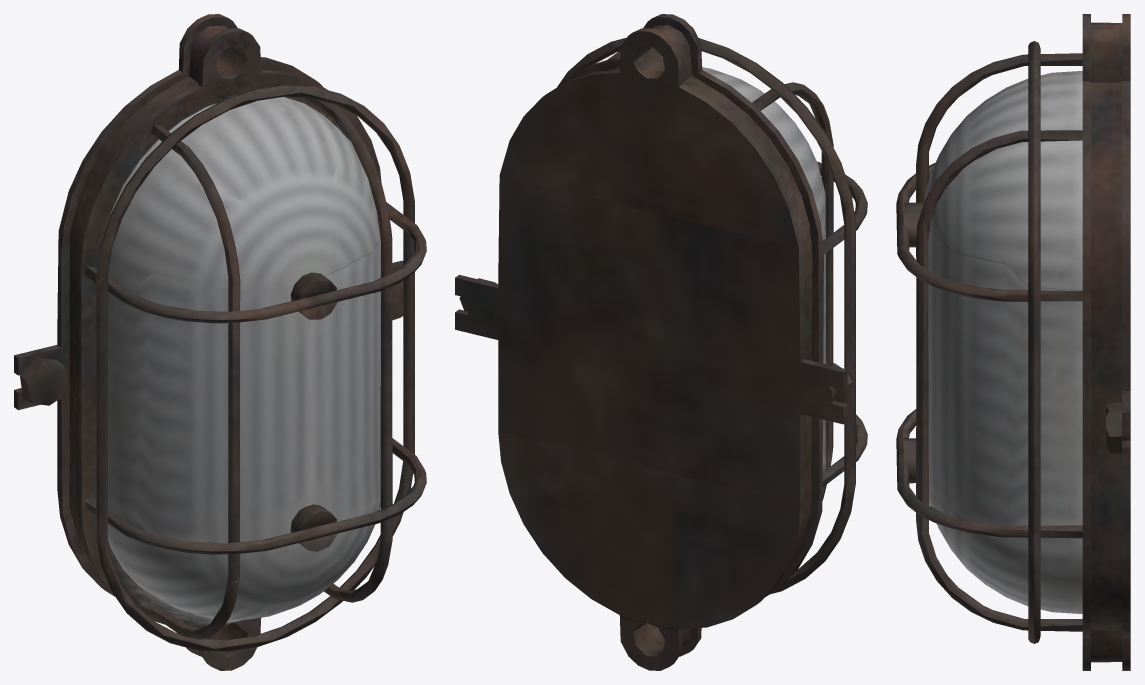
File: industrial_wall_lamp.glb
3 renders of one model, left to right at view 1: azimuth 30°, elevation 25°; view 2: azimuth 150°, elevation 25°; view 3: azimuth 270°, elevation 25°, orthographic.
Parts seen in each view (by area): view 1: industrial_wall_lamp; view 2: industrial_wall_lamp; view 3: industrial_wall_lamp.
Boxes of the visible parts, x1,y1,x2,y2 form: industrial_wall_lamp: (14,14,426,670); industrial_wall_lamp: (455,14,867,670); industrial_wall_lamp: (896,14,1130,670).
Bounding box in the file's own units: 0.2735 × 0.4299 × 0.1404.
Materials: 1 (1 with a texture image).
